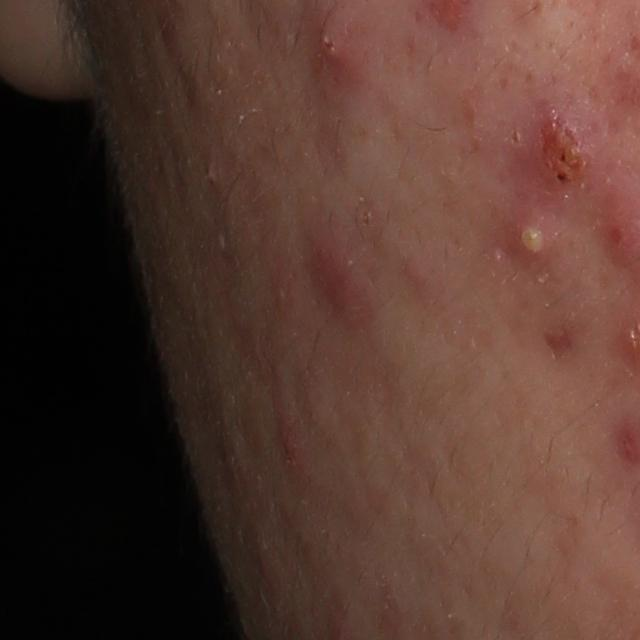atrophic_scar: (542, 328, 574, 367)
papule: (523, 101, 599, 196), (314, 244, 376, 322), (309, 12, 357, 81), (277, 420, 312, 467), (399, 257, 436, 293)
pustule: (509, 216, 557, 270)
